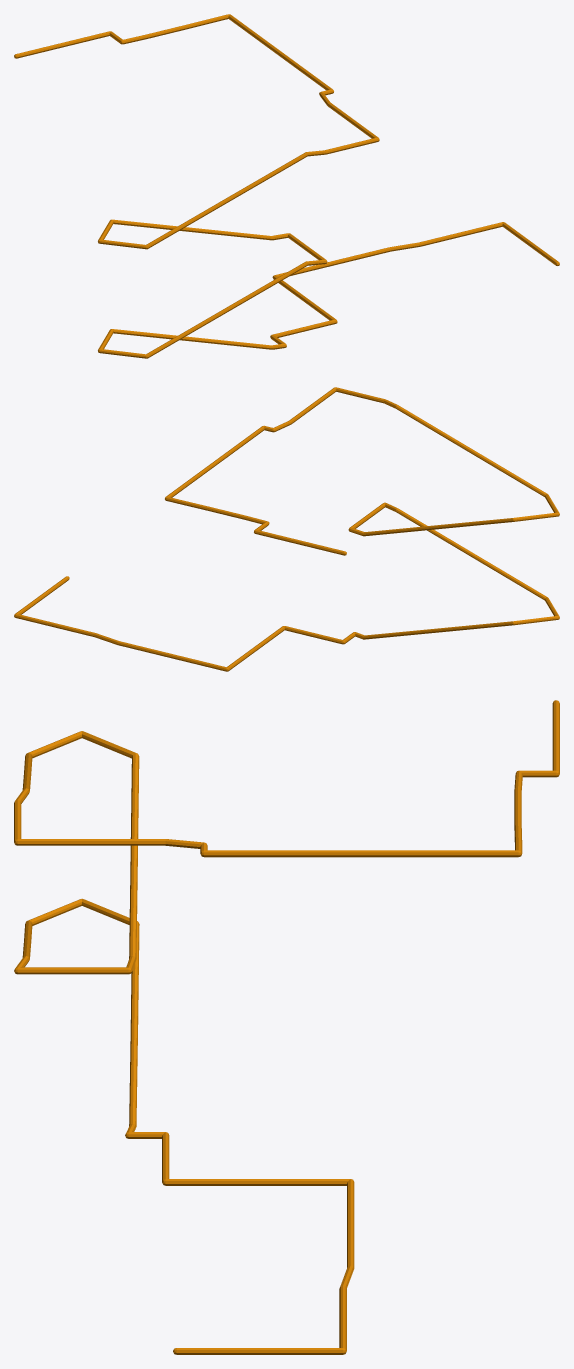
3 renders of one model, top to bottom at view 1: azimuth 30°, elevation 25°; view 2: azimuth 150°, elevation 25°; view 3: azimuth 270°, elevation 25°, orthographic. The views are drawn at different scales.
Bounding box in the file's own units: 2356 × 1020 × 1475.
